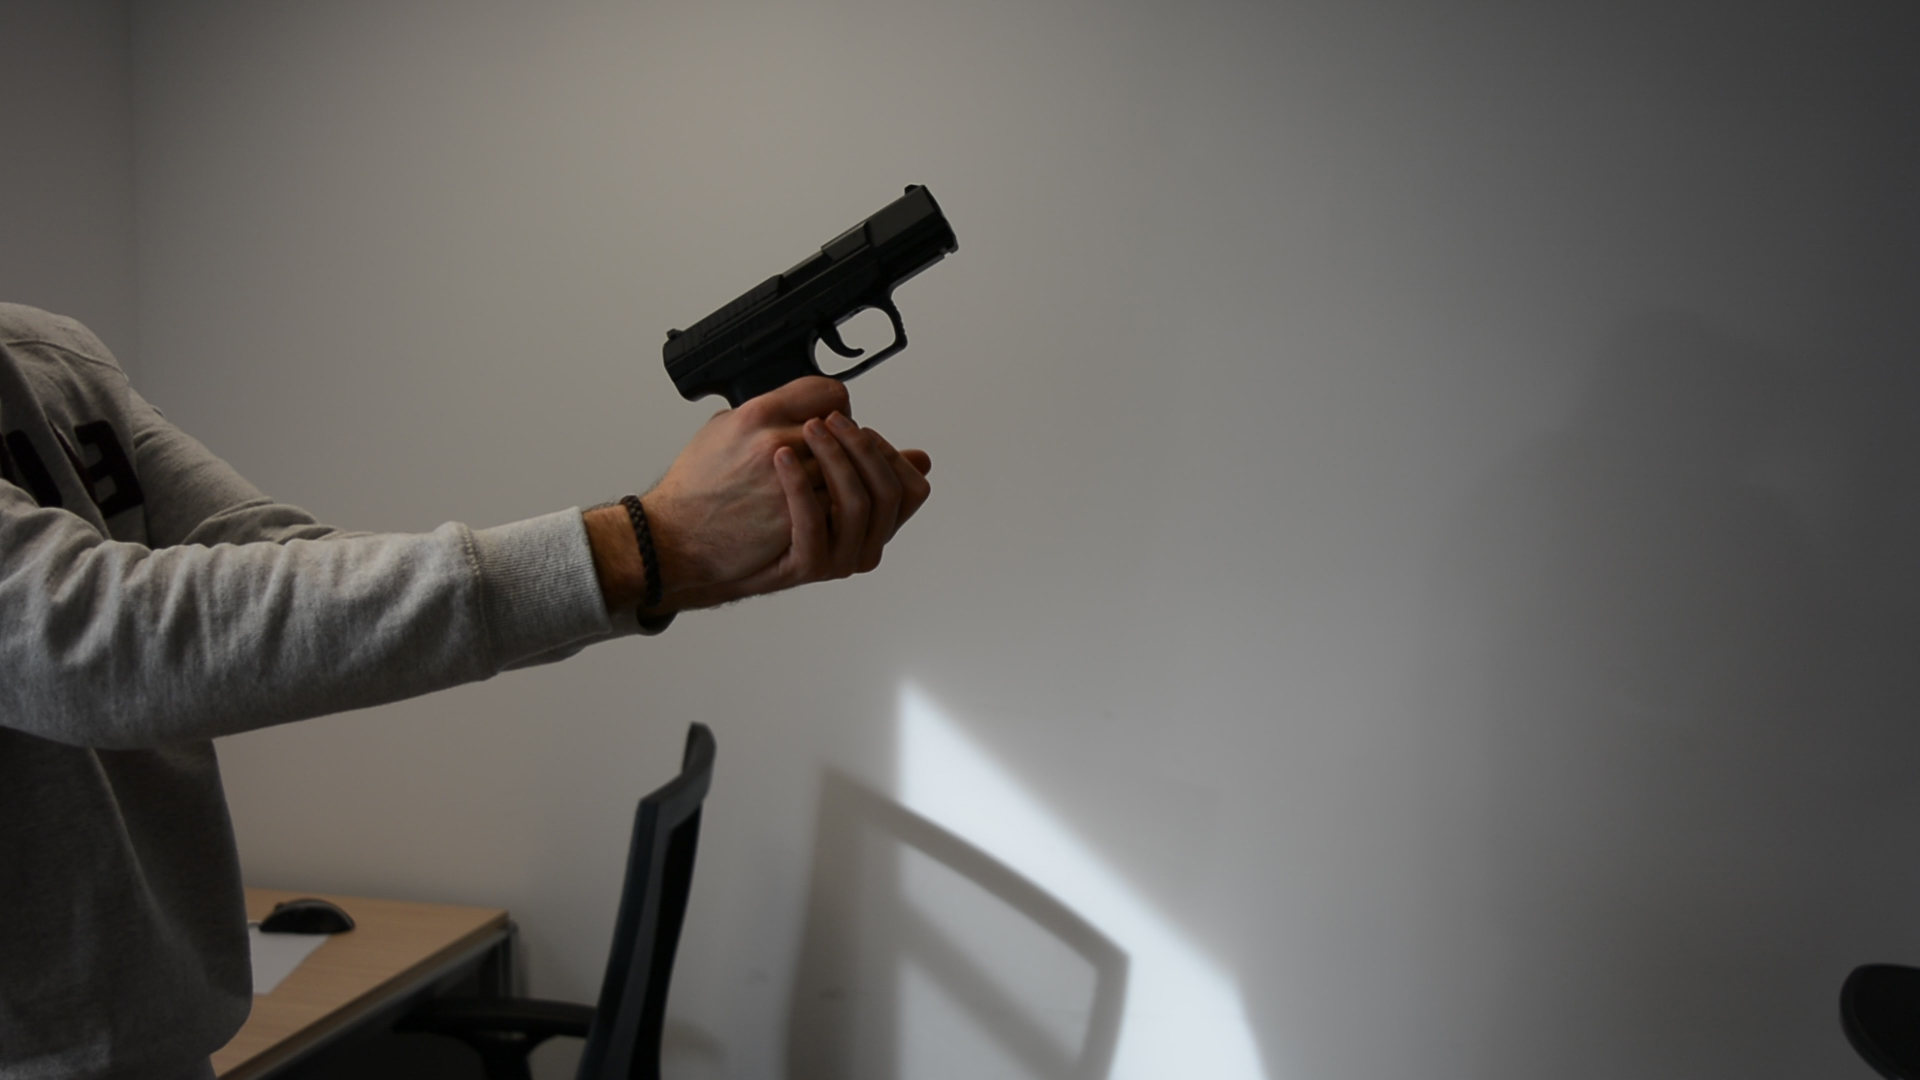pistol: (658, 178, 963, 433)
